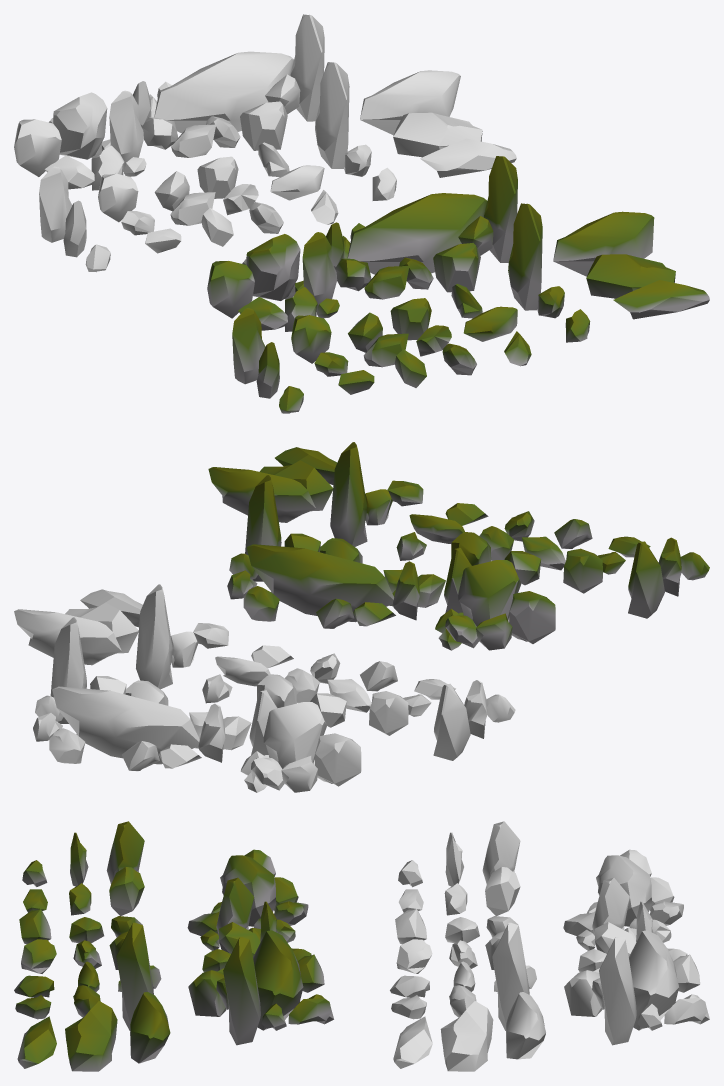
Rendered from FlorestaBrumas.fbx_Assets.fbx.
The picture shows the model from 3 angles, top to bottom: view 1: azimuth 30°, elevation 25°; view 2: azimuth 150°, elevation 25°; view 3: azimuth 270°, elevation 25°; orthographic projection. The views are drawn at different scales.
Visible parts, largest first — view 1: Pedras2.001, Pedras2Musgo.001, Pedras.001, PedrasMusgo.001, PedrasUnidadesMusgo.022, Pedra.026, PedrasUnidadesMusgo.024, Pedra.027, PedrasUnidadesMusgo.033, Pedra.025, PedrasUnidadesMusgo.034, Pedra.022 (+32 smaller); view 2: Pedras2Musgo.001, Pedras2.001, Pedras.001, PedrasMusgo.001, PedrasUnidadesMusgo.022, Pedra.026, Pedra.027, PedrasUnidadesMusgo.024, Pedra.040, PedrasUnidadesMusgo.042, Pedra.039, PedrasUnidadesMusgo.027 (+30 smaller); view 3: Pedras2.001, Pedras2Musgo.001, Pedras.001, PedrasMusgo.001, PedrasUnidadesMusgo.033, Pedra.025, PedrasUnidadesMusgo.024, Pedra.027, PedrasUnidadesMusgo.022, Pedra.026, Pedra.040, PedrasUnidadesMusgo.042 (+28 smaller).
Boxes of the visible parts, box(x1,y1,x2,y2) form: Pedras2.001: box(133, 14, 324, 157); Pedras2Musgo.001: box(326, 156, 517, 299); Pedras.001: box(14, 90, 146, 190); PedrasMusgo.001: box(207, 232, 339, 331); PedrasUnidadesMusgo.022: box(553, 211, 654, 276); Pedra.026: box(360, 70, 460, 135); PedrasUnidadesMusgo.024: box(508, 203, 542, 310); Pedra.027: box(315, 62, 349, 168); PedrasUnidadesMusgo.033: box(586, 254, 675, 298); Pedra.025: box(393, 112, 482, 157); PedrasUnidadesMusgo.034: box(613, 280, 709, 319); Pedra.022: box(420, 138, 516, 177); Pedras2Musgo.001: box(227, 475, 445, 628); Pedras2.001: box(33, 617, 251, 771); Pedras.001: box(240, 690, 361, 792); PedrasMusgo.001: box(435, 548, 555, 650); PedrasUnidadesMusgo.022: box(208, 467, 315, 522); Pedra.026: box(14, 609, 121, 665); Pedra.027: box(136, 584, 172, 689); PedrasUnidadesMusgo.024: box(330, 442, 367, 546); Pedra.040: box(433, 683, 470, 760); PedrasUnidadesMusgo.042: box(628, 541, 664, 618); Pedra.039: box(369, 691, 408, 735); PedrasUnidadesMusgo.027: box(563, 548, 602, 593); Pedras2.001: box(564, 901, 709, 1045); Pedras2Musgo.001: box(188, 901, 333, 1045); Pedras.001: box(563, 849, 683, 950); PedrasMusgo.001: box(187, 849, 308, 950); PedrasUnidadesMusgo.033: box(65, 1001, 117, 1071); Pedra.025: box(440, 1001, 493, 1071); PedrasUnidadesMusgo.024: box(116, 922, 153, 1030); Pedra.027: box(492, 922, 529, 1030); PedrasUnidadesMusgo.022: box(130, 992, 170, 1063); Pedra.026: box(506, 992, 545, 1059); Pedra.040: box(482, 821, 520, 884); PedrasUnidadesMusgo.042: box(106, 821, 144, 884).
Size of the model in its own units: 510 by 124 by 726.
